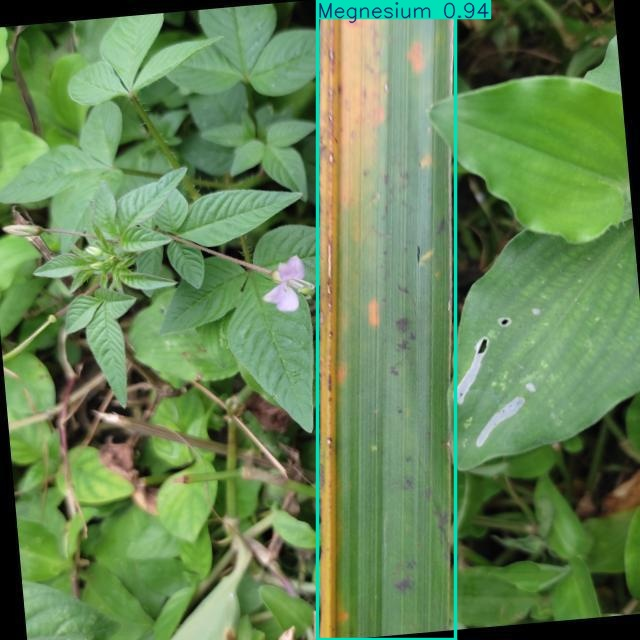Megnesium: (317, 0, 455, 640)
